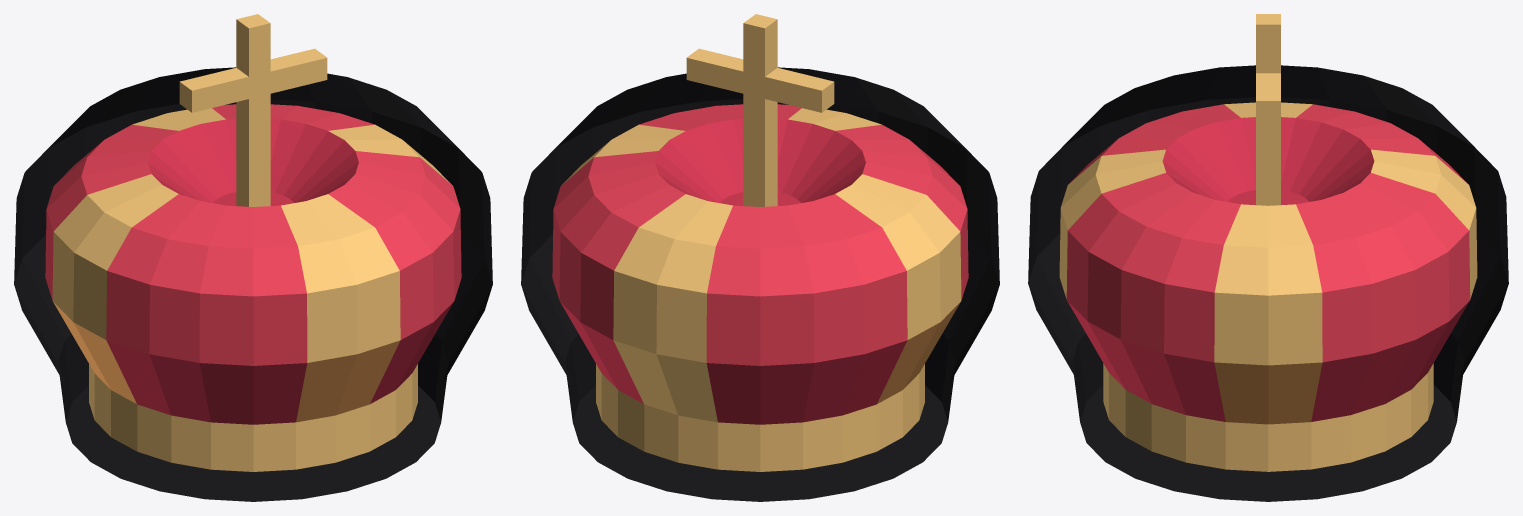
File: Crown.fbx
3 renders of one model, left to right at view 1: azimuth 30°, elevation 25°; view 2: azimuth 150°, elevation 25°; view 3: azimuth 270°, elevation 25°, orthographic.
Parts seen in each view (by area): view 1: Cylinder.003; view 2: Cylinder.003; view 3: Cylinder.003.
Boxes of the visible parts, x1=… form: Cylinder.003: x1=14, y1=14, x2=492, y2=501; Cylinder.003: x1=521, y1=14, x2=999, y2=501; Cylinder.003: x1=1028, y1=14, x2=1508, y2=501.
Size of the model in its own units: 1.57 by 1.45 by 1.57.
